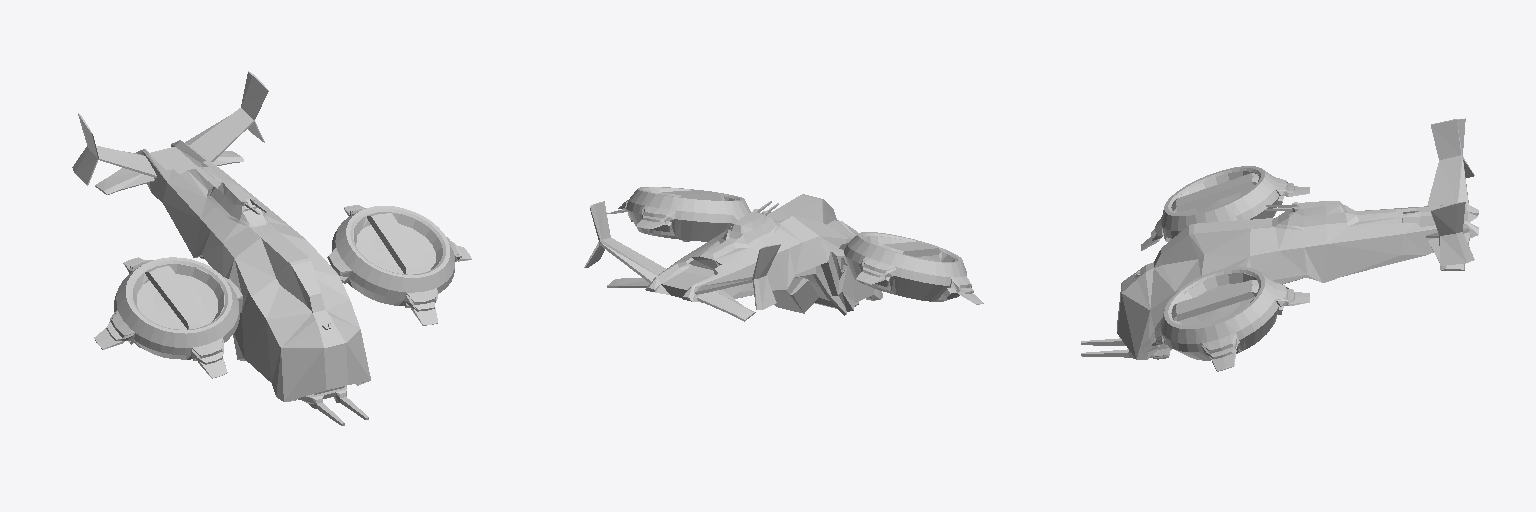
The model's file is Boss1.obj.
3 views of the same model, side by side, from view 1: azimuth 30°, elevation 25°; view 2: azimuth 150°, elevation 25°; view 3: azimuth 270°, elevation 25° (orthographic).
Parts seen in each view (by area): view 1: default; view 2: default; view 3: default.
Boxes of the visible parts, <box> form: default: <box>72,71,471,425</box>; default: <box>584,187,983,321</box>; default: <box>1081,118,1478,371</box>.
Size of the model in its own units: 8.68 by 4.28 by 8.05.